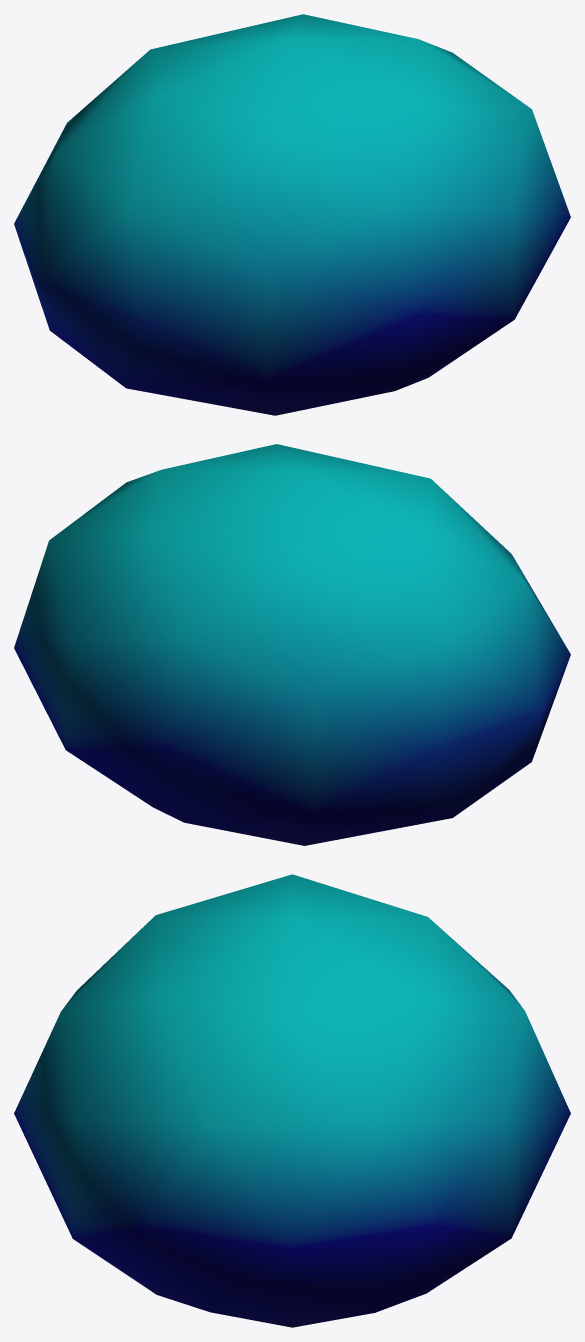
Rendered from RockRounded_3_lod2.glb.
3 renders of one model, top to bottom at view 1: azimuth 30°, elevation 25°; view 2: azimuth 150°, elevation 25°; view 3: azimuth 270°, elevation 25°, orthographic. The views are drawn at different scales.
Parts seen in each view (by area): view 1: RockRounded_3_lod2; view 2: RockRounded_3_lod2; view 3: RockRounded_3_lod2.
Part boxes in pixels (bbox=[...]): RockRounded_3_lod2: bbox=[14, 14, 570, 415]; RockRounded_3_lod2: bbox=[14, 444, 570, 845]; RockRounded_3_lod2: bbox=[14, 874, 570, 1327].
Size of the model in its own units: 1.63 by 1.01 by 1.44.
